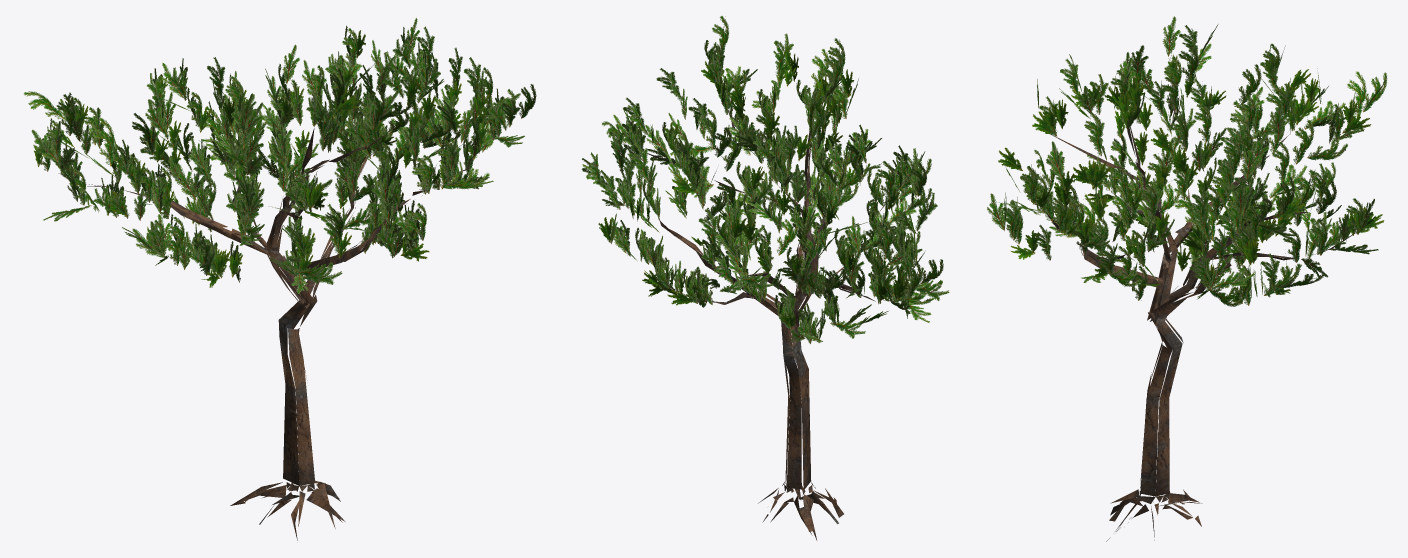
Rendered from pine_lo.glb.
3 renders of one model, left to right at view 1: azimuth 30°, elevation 25°; view 2: azimuth 150°, elevation 25°; view 3: azimuth 270°, elevation 25°, orthographic. The views are drawn at different scales.
Visible parts, largest first — view 1: Object_5, Object_4; view 2: Object_5, Object_4; view 3: Object_5, Object_4.
Boxes of the visible parts, x1,y1,x2,y2 form: Object_5: [23, 18, 536, 293]; Object_4: [58, 128, 494, 540]; Object_5: [581, 16, 949, 343]; Object_4: [646, 110, 906, 540]; Object_5: [987, 16, 1387, 306]; Object_4: [1044, 59, 1356, 541].
Size of the model in its own units: 4.85 by 5.31 by 4.08.
2 materials, 2 textured.
